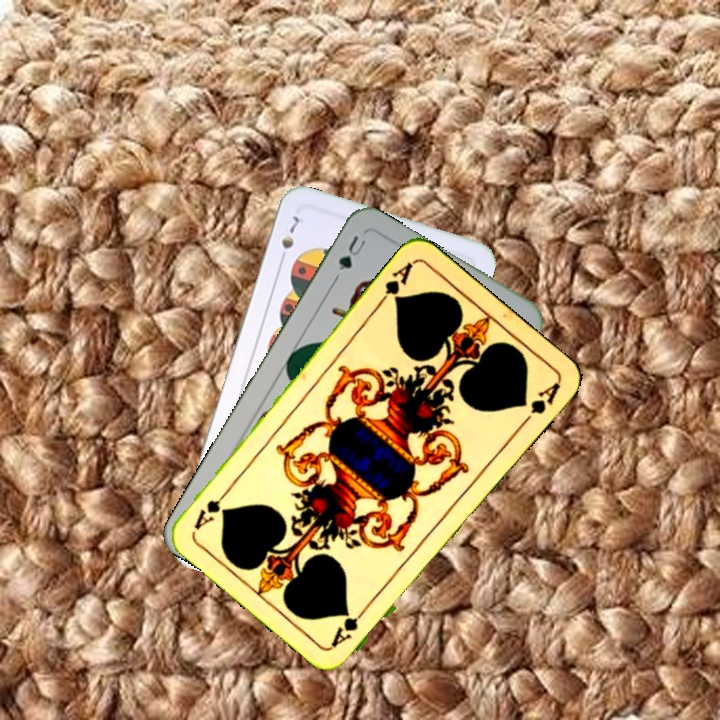GA: (327, 600, 372, 650), (374, 257, 416, 308)
GU: (334, 231, 369, 273)
S7: (275, 211, 302, 266)
